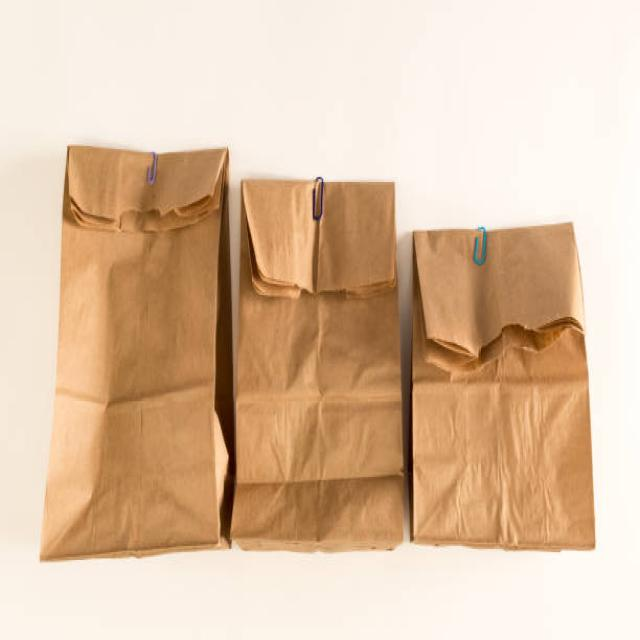electronic: (39, 143, 231, 562), (230, 177, 405, 552), (409, 220, 595, 550)
